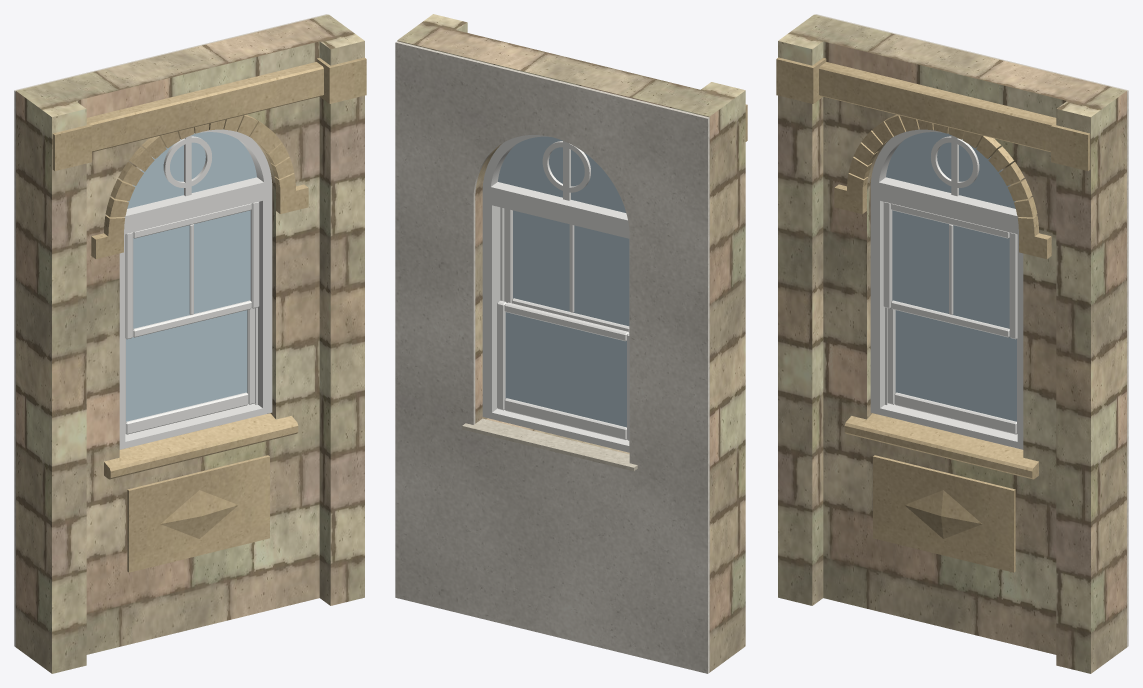
File: f_u2_window.glb
The picture shows the model from 3 angles, left to right: view 1: azimuth 30°, elevation 25°; view 2: azimuth 150°, elevation 25°; view 3: azimuth 330°, elevation 25°; orthographic projection.
Visible parts, largest first — view 1: f_u2_window_terra, f_u2_window_terra2, f_u2_window_glass, f_u2_window_frame, f_u2_window_sash, f_u2_window_plaster; view 2: f_u2_window_plaster, f_u2_window_terra, f_u2_window_glass, f_u2_window_frame, f_u2_window_sash, f_u2_window_trim; view 3: f_u2_window_terra, f_u2_window_terra2, f_u2_window_glass, f_u2_window_frame, f_u2_window_sash, f_u2_window_plaster.
Boxes of the visible parts, x1=… form: f_u2_window_terra: x1=16, y1=14, x2=364, y2=673; f_u2_window_terra2: x1=52, y1=57, x2=366, y2=572; f_u2_window_glass: x1=126, y1=132, x2=256, y2=421; f_u2_window_frame: x1=119, y1=129, x2=272, y2=449; f_u2_window_sash: x1=125, y1=202, x2=259, y2=434; f_u2_window_plaster: x1=14, y1=14, x2=327, y2=647; f_u2_window_plaster: x1=395, y1=41, x2=709, y2=673; f_u2_window_terra: x1=397, y1=14, x2=745, y2=672; f_u2_window_glass: x1=498, y1=136, x2=629, y2=427; f_u2_window_frame: x1=482, y1=135, x2=629, y2=452; f_u2_window_sash: x1=497, y1=208, x2=629, y2=440; f_u2_window_trim: x1=462, y1=418, x2=637, y2=471; f_u2_window_terra: x1=778, y1=14, x2=1126, y2=673; f_u2_window_terra2: x1=776, y1=57, x2=1090, y2=572; f_u2_window_glass: x1=886, y1=132, x2=1016, y2=421; f_u2_window_frame: x1=870, y1=129, x2=1023, y2=449; f_u2_window_sash: x1=883, y1=202, x2=1017, y2=434; f_u2_window_plaster: x1=815, y1=14, x2=1128, y2=647.
Size of the model in its own units: 2 by 3.4 by 0.485.
7 materials, 4 textured.
